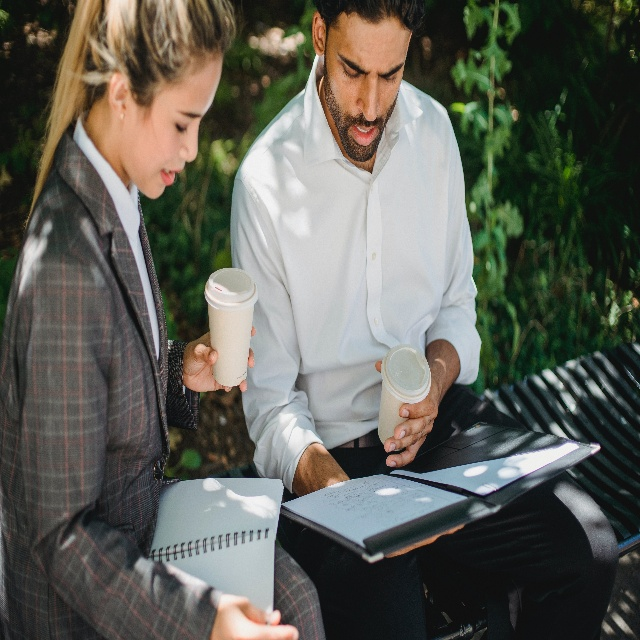Sin_guantes: (375, 356, 440, 474), (181, 325, 257, 395), (210, 592, 300, 640)
